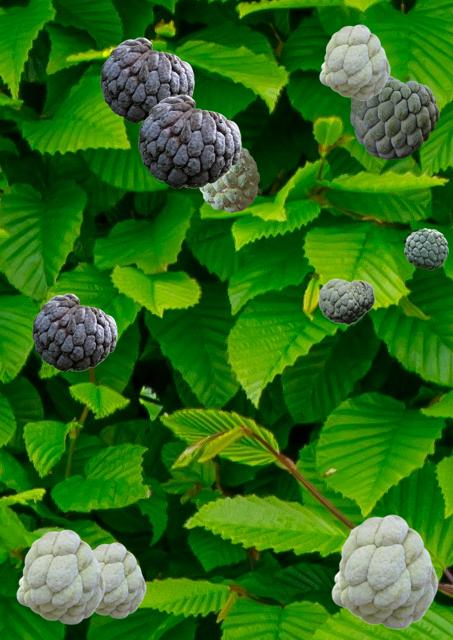atis: (331, 514, 437, 628), (138, 94, 240, 187), (16, 529, 104, 623), (100, 37, 193, 122), (350, 75, 438, 158), (32, 293, 116, 370), (319, 24, 389, 99), (93, 542, 145, 617), (199, 146, 258, 211), (318, 278, 374, 324), (404, 228, 447, 269)
